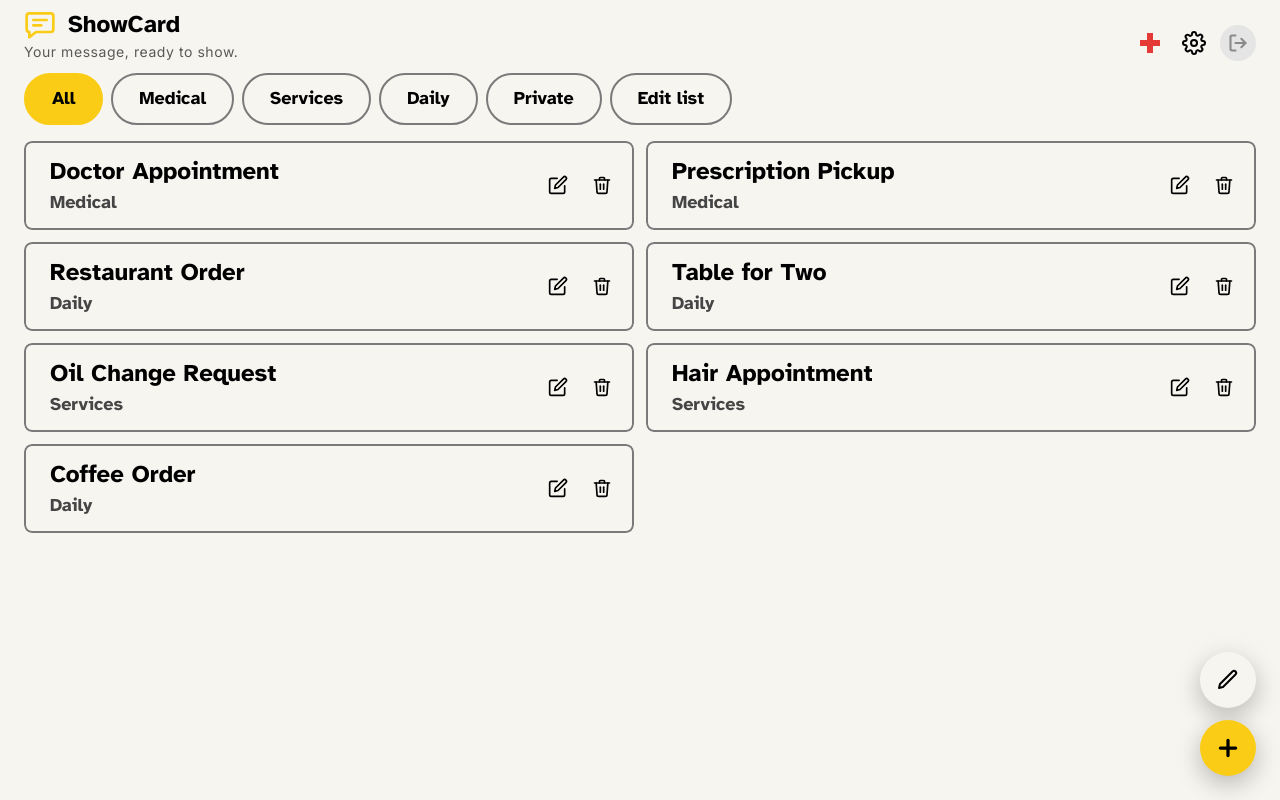
Test: App: first run › filters cards when a category is chosen
What coordinates should you click on to do the following:
click the button "Services"
I would click on:
 (307, 99)
Its box is [242,73,371,125].
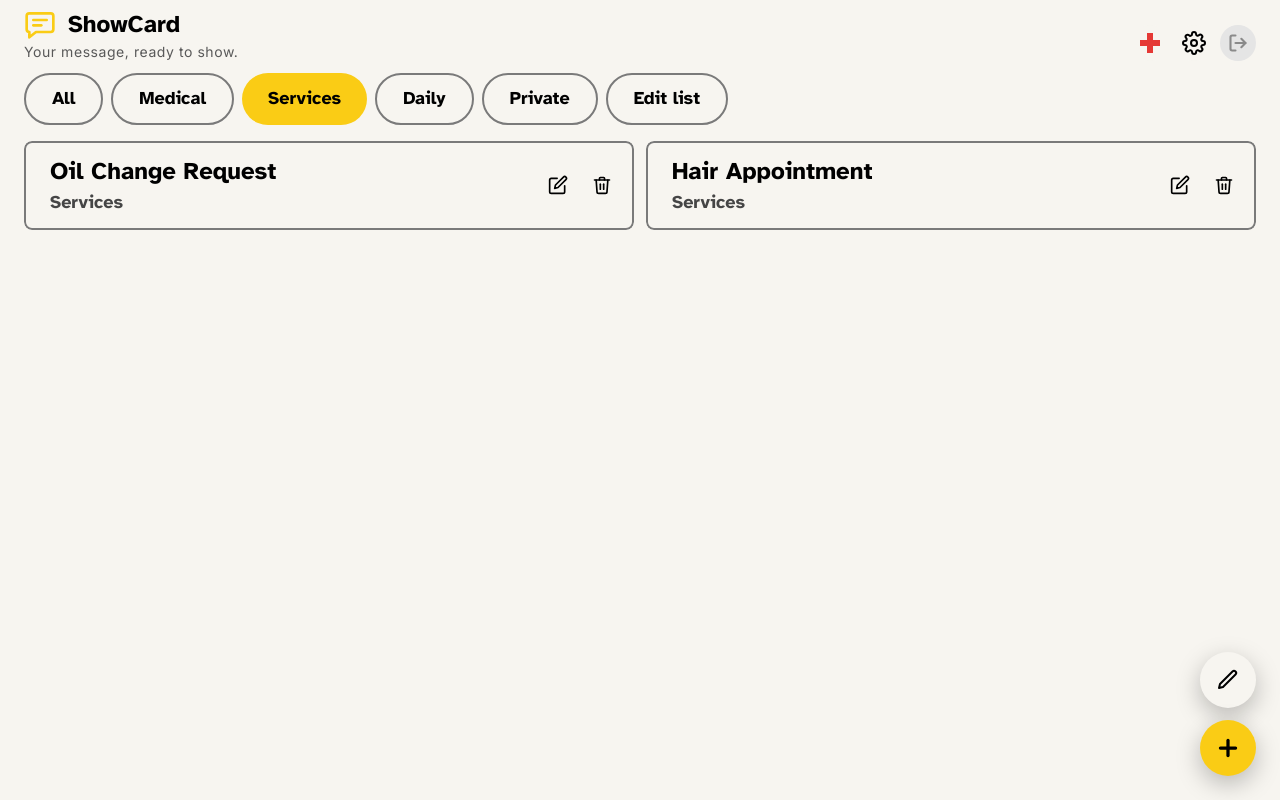
Expected: the heading "Oil Change Request" is shown, [50,156,276,186]
Expected: the heading "Doctor Appointment" is gone
